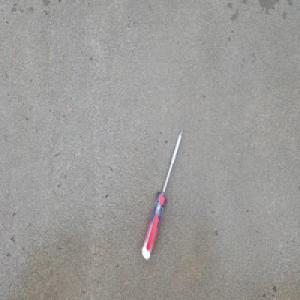Screwdriver: (139, 124, 184, 261)
